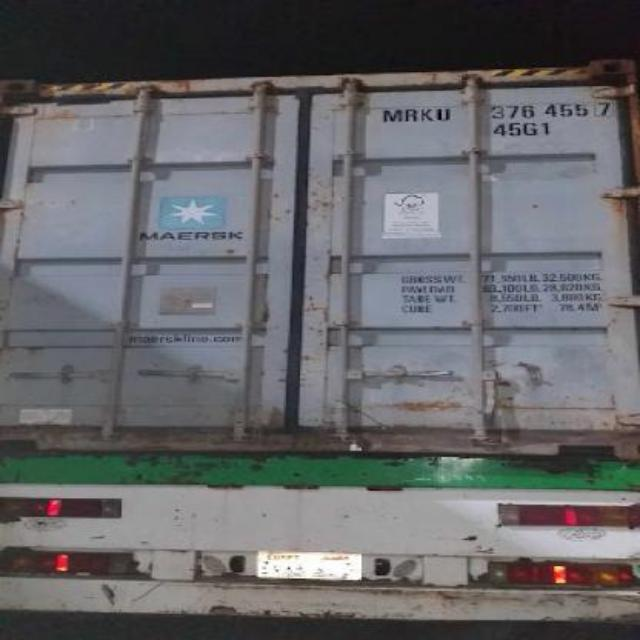3: (484, 103, 502, 121)
4: (544, 103, 558, 121)
5: (572, 100, 592, 122), (560, 103, 574, 121)
6: (520, 104, 542, 120)
7: (592, 99, 614, 117), (502, 104, 518, 120)
K: (416, 104, 434, 126)
M: (380, 107, 404, 125)
R: (400, 105, 420, 125)
U: (434, 104, 456, 126)
